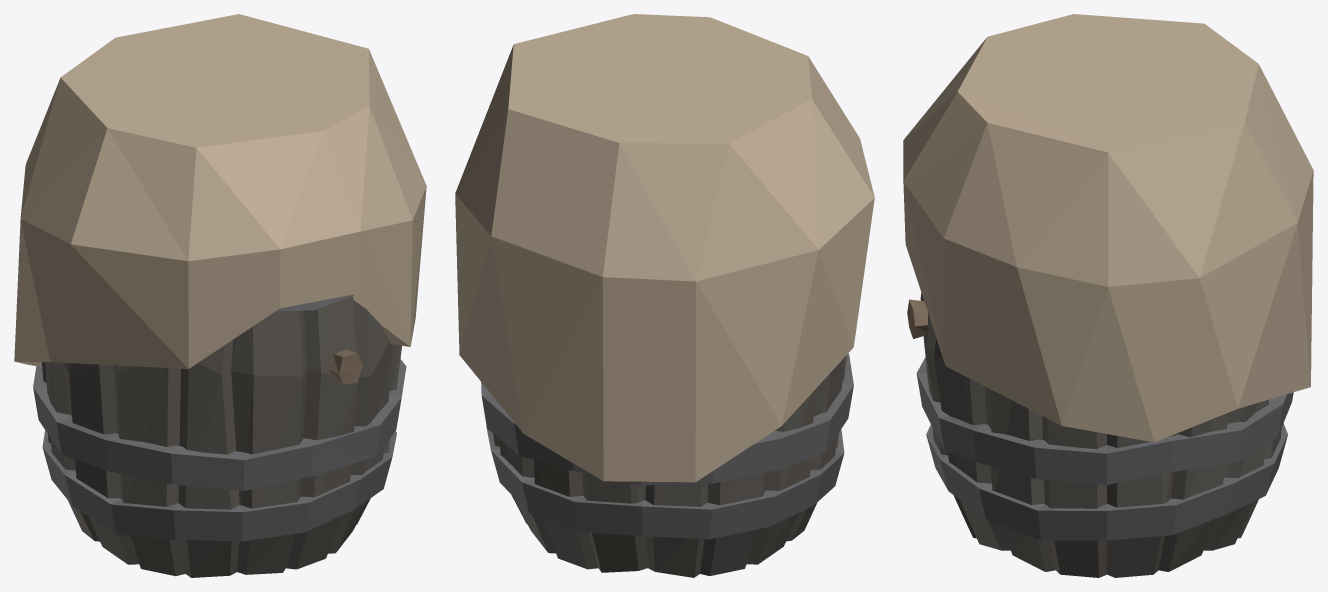
File: SM_Prop_Barrel_05.glb
3 renders of one model, left to right at view 1: azimuth 30°, elevation 25°; view 2: azimuth 150°, elevation 25°; view 3: azimuth 270°, elevation 25°, orthographic.
Parts seen in each view (by area): view 1: SM_Prop_Barrel_05_part00; view 2: SM_Prop_Barrel_05_part00; view 3: SM_Prop_Barrel_05_part00.
Boxes of the visible parts, <box> form: SM_Prop_Barrel_05_part00: <box>14,14,426,577</box>; SM_Prop_Barrel_05_part00: <box>455,14,874,577</box>; SM_Prop_Barrel_05_part00: <box>903,14,1313,577</box>.
Bounding box in the file's own units: 0.9432 × 1.1 × 0.9236.
1 material, 1 textured.
